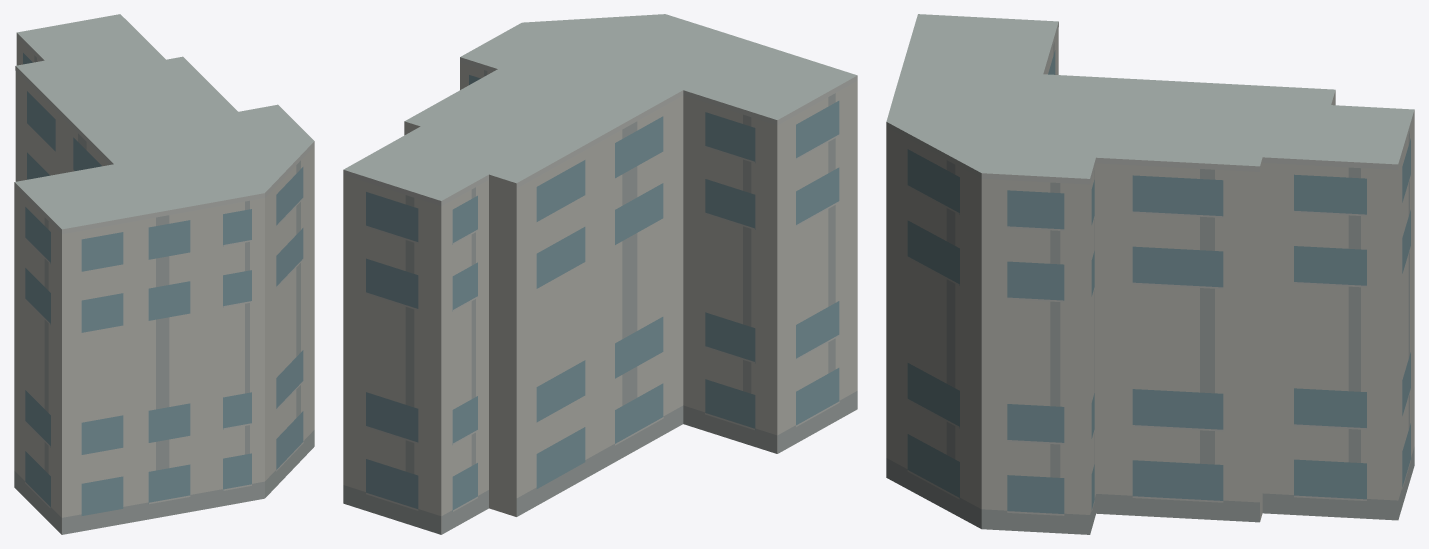
File: residential-3ff82ffd-d0cd-4811-bb1c-76d4d9f70a6c.glb
The picture shows the model from 3 angles, left to right: view 1: azimuth 30°, elevation 25°; view 2: azimuth 150°, elevation 25°; view 3: azimuth 270°, elevation 25°; orthographic projection. The views are drawn at different scales.
Visible parts, largest first — view 1: residential-3ff82ffd-d0cd-4811-bb1c-76d4d9f70a6c.tmp; view 2: residential-3ff82ffd-d0cd-4811-bb1c-76d4d9f70a6c.tmp; view 3: residential-3ff82ffd-d0cd-4811-bb1c-76d4d9f70a6c.tmp.
Boxes of the visible parts, left/top/right/bottom form: residential-3ff82ffd-d0cd-4811-bb1c-76d4d9f70a6c.tmp: left=14, top=14, right=314, bottom=534; residential-3ff82ffd-d0cd-4811-bb1c-76d4d9f70a6c.tmp: left=343, top=14, right=857, bottom=534; residential-3ff82ffd-d0cd-4811-bb1c-76d4d9f70a6c.tmp: left=886, top=14, right=1414, bottom=534.
Bounding box in the file's own units: 15.16 × 15.25 × 20.52.
